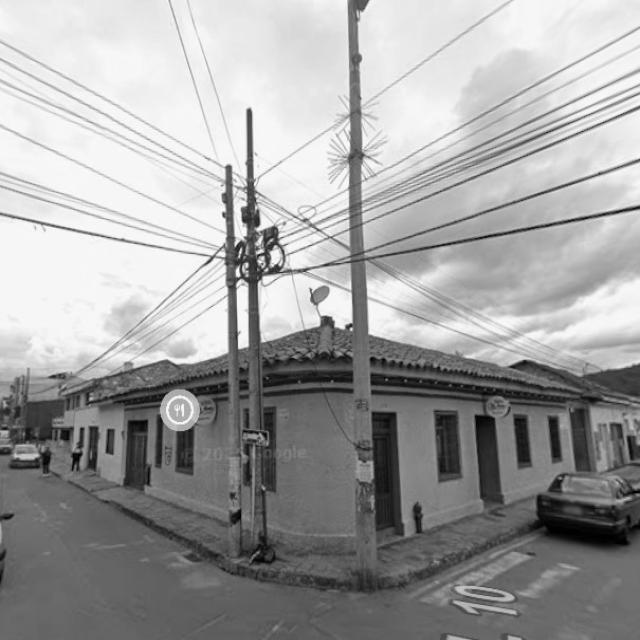Fachada: (260, 316, 573, 550), (115, 357, 227, 518), (63, 360, 178, 483), (513, 361, 639, 471)
Poste: (347, 0, 377, 589), (225, 166, 241, 558), (249, 108, 261, 430), (252, 448, 266, 544)
